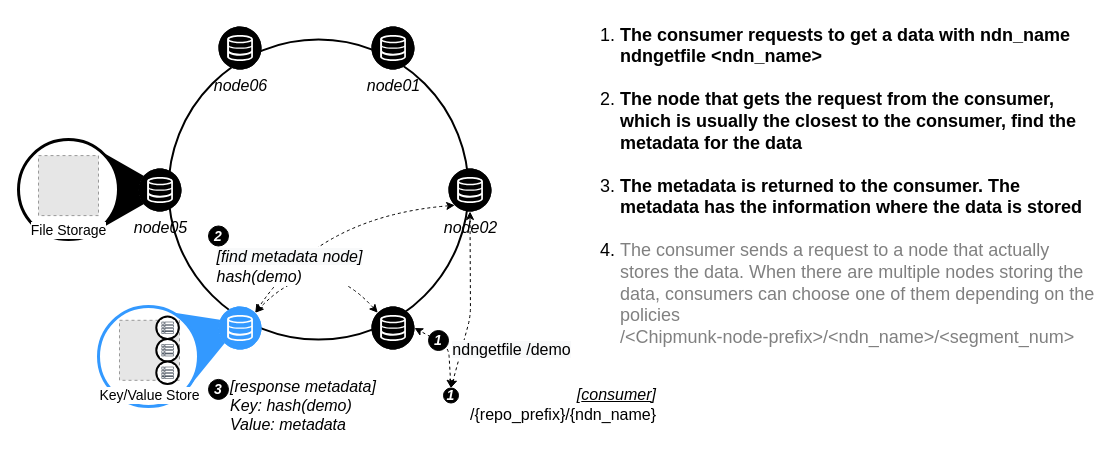
Image size: 1116x452. Some labels were removed from this diagram. Grey dashed boxes stand in for pictures. The shapes that lost their labels are listed below. From the top down, each one's centre as x and y in pixels, then its label:
(240,328): node04
(392,328): node03
